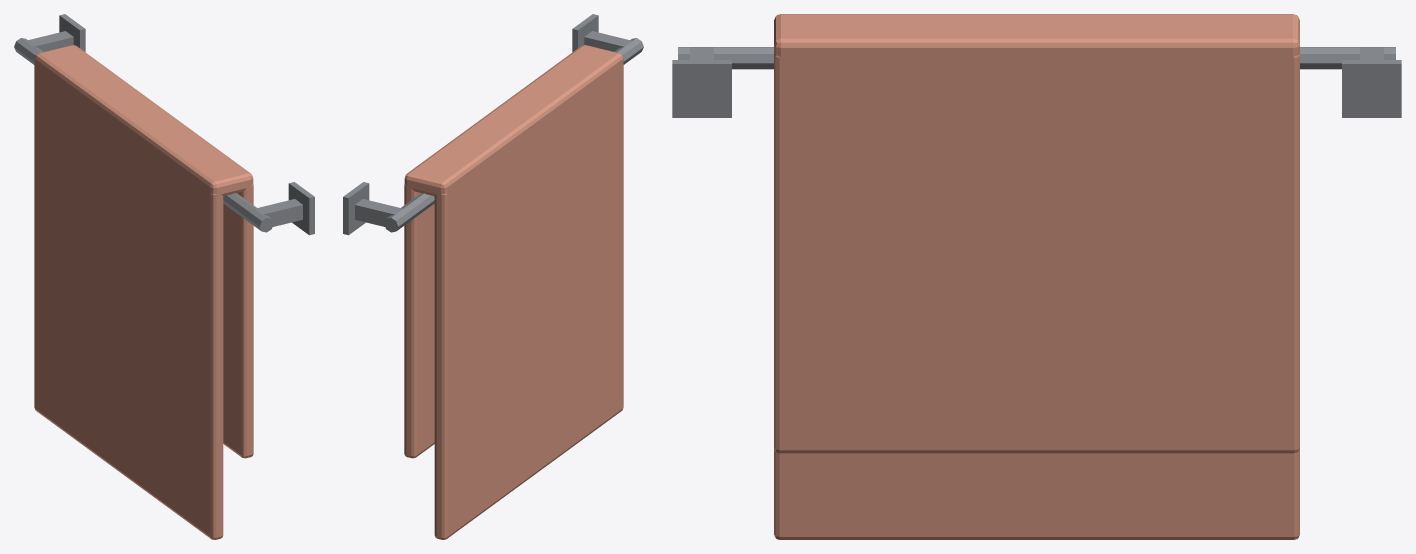
The model's file is Toalla.fbx.
The picture shows the model from 3 angles, left to right: view 1: azimuth 30°, elevation 25°; view 2: azimuth 150°, elevation 25°; view 3: azimuth 270°, elevation 25°; orthographic projection. The views are drawn at different scales.
Parts seen in each view (by area): view 1: Deco_Toallero_Toalla; view 2: Deco_Toallero_Toalla; view 3: Deco_Toallero_Toalla.
Part boxes in pixels (box(x1,y1,x2,y2)): Deco_Toallero_Toalla: box(14, 14, 314, 539); Deco_Toallero_Toalla: box(343, 14, 643, 539); Deco_Toallero_Toalla: box(672, 14, 1401, 539).
Size of the model in its own units: 0.095 by 0.482 by 0.61.
